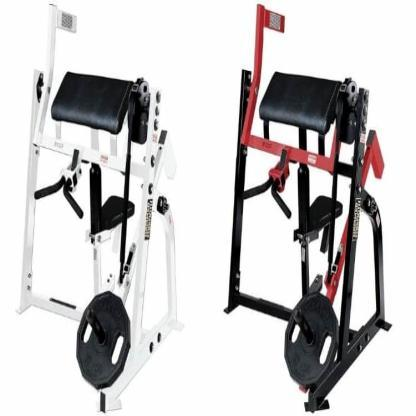arm curl machine: (16, 4, 185, 412), (225, 5, 392, 411)
